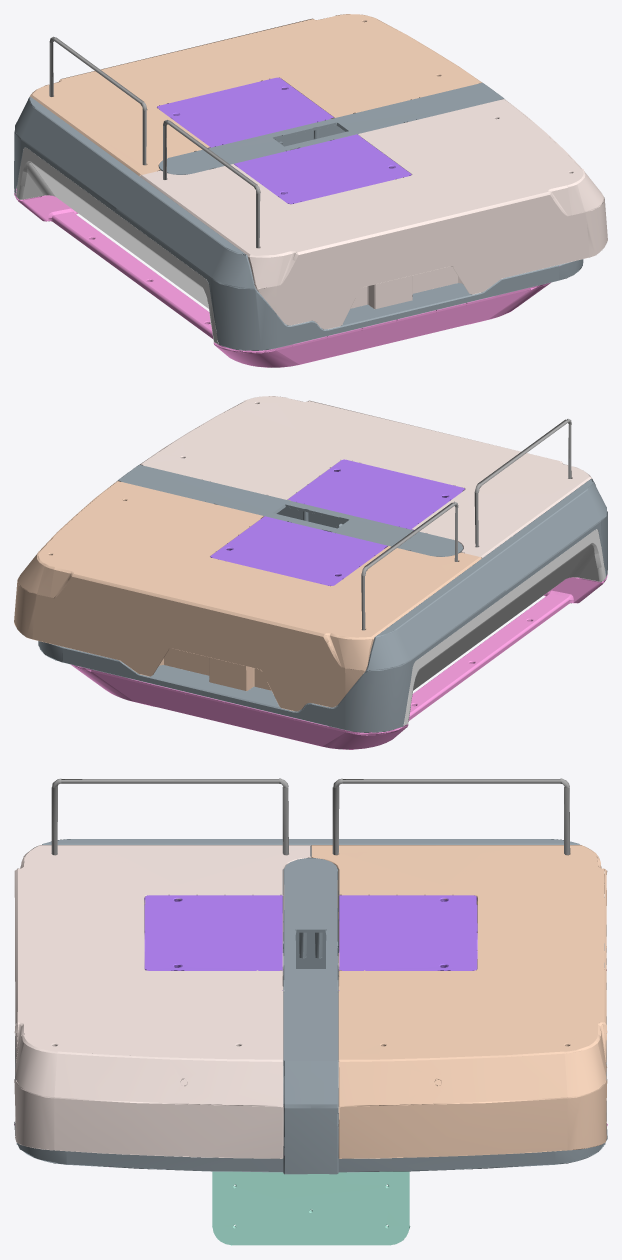
File: glove_wearing_unit.obj
3 views of the same model, one above another, from view 1: azimuth 30°, elevation 25°; view 2: azimuth 150°, elevation 25°; view 3: azimuth 270°, elevation 25° (orthographic). The views are drawn at different scales.
Parts seen in each view (by area): view 1: glove_wearing_unit; view 2: glove_wearing_unit; view 3: glove_wearing_unit.
Part boxes in pixels (bbox=[...]): glove_wearing_unit: bbox=[14, 14, 607, 367]; glove_wearing_unit: bbox=[14, 396, 607, 749]; glove_wearing_unit: bbox=[14, 778, 607, 1245].
Size of the model in its own units: 0.4371 by 0.2679 by 0.452.
